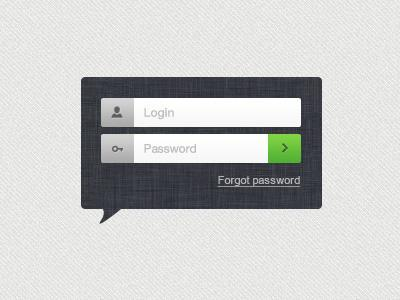icon: (110, 105, 128, 122), (111, 143, 128, 157), (280, 142, 291, 155)
input: (135, 99, 301, 128), (135, 135, 269, 164)
